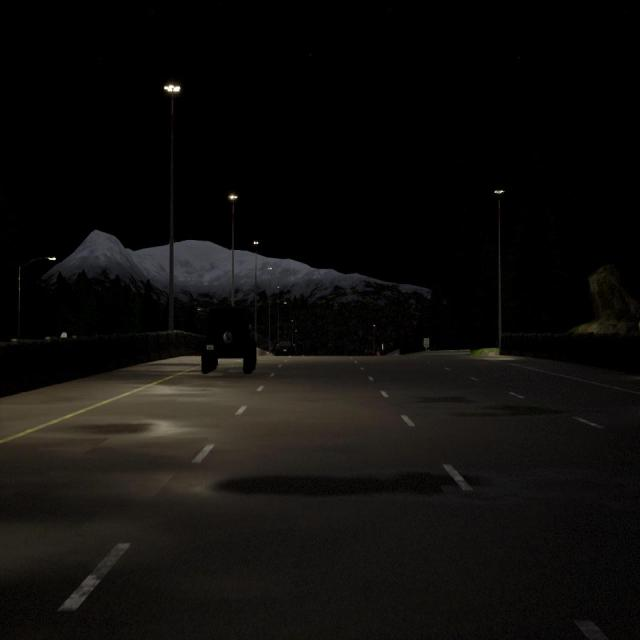Vehicle: (201, 306, 257, 374), (275, 340, 293, 356)
